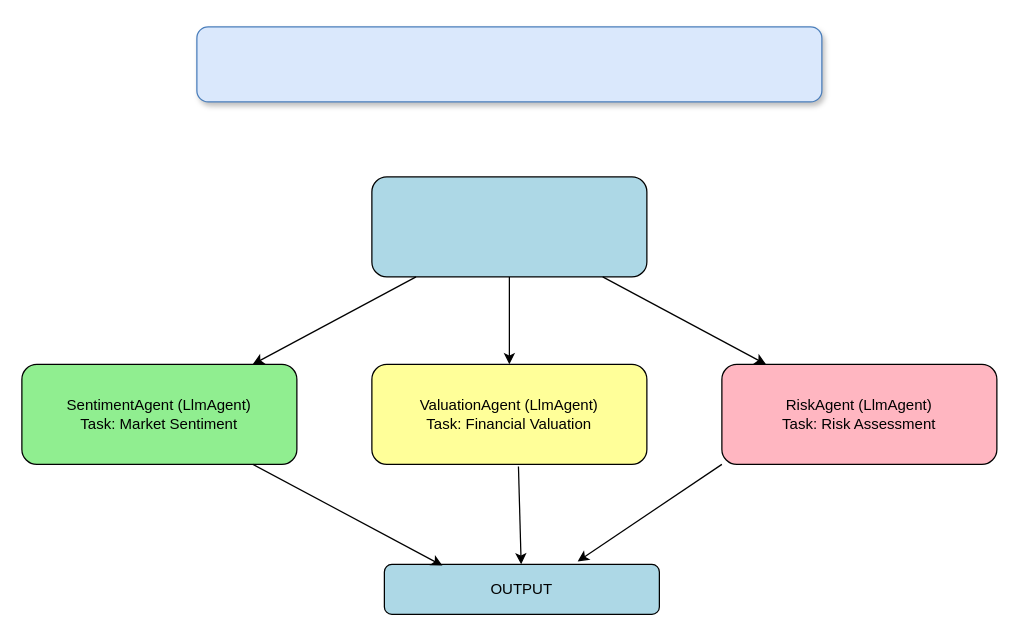
Image size: 1019x636. Some labels were removed from this diagram. Each missing label, with the centre of its shape:
"Investment_Analyst_Agent (ParallelAgent)" belongs at point 509,226.
"🚀 Parallel Agent Workflow" belongs at point 510,66.
